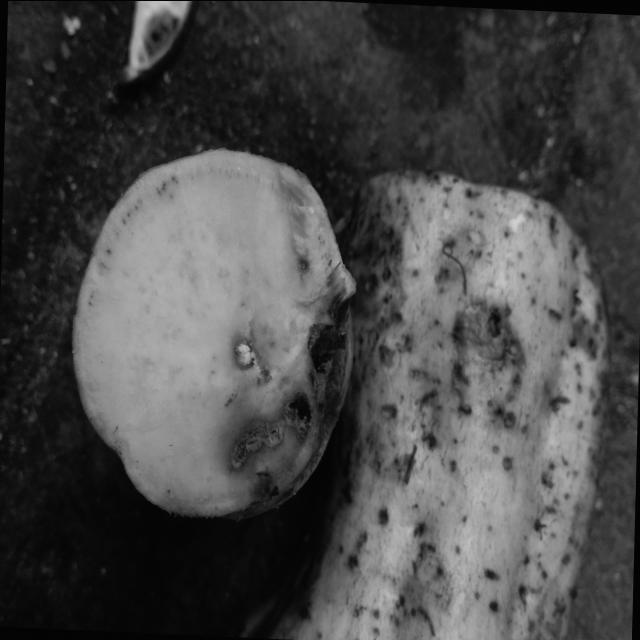Sick Sweet Potato_Tuber Rot: (72, 148, 355, 518)
